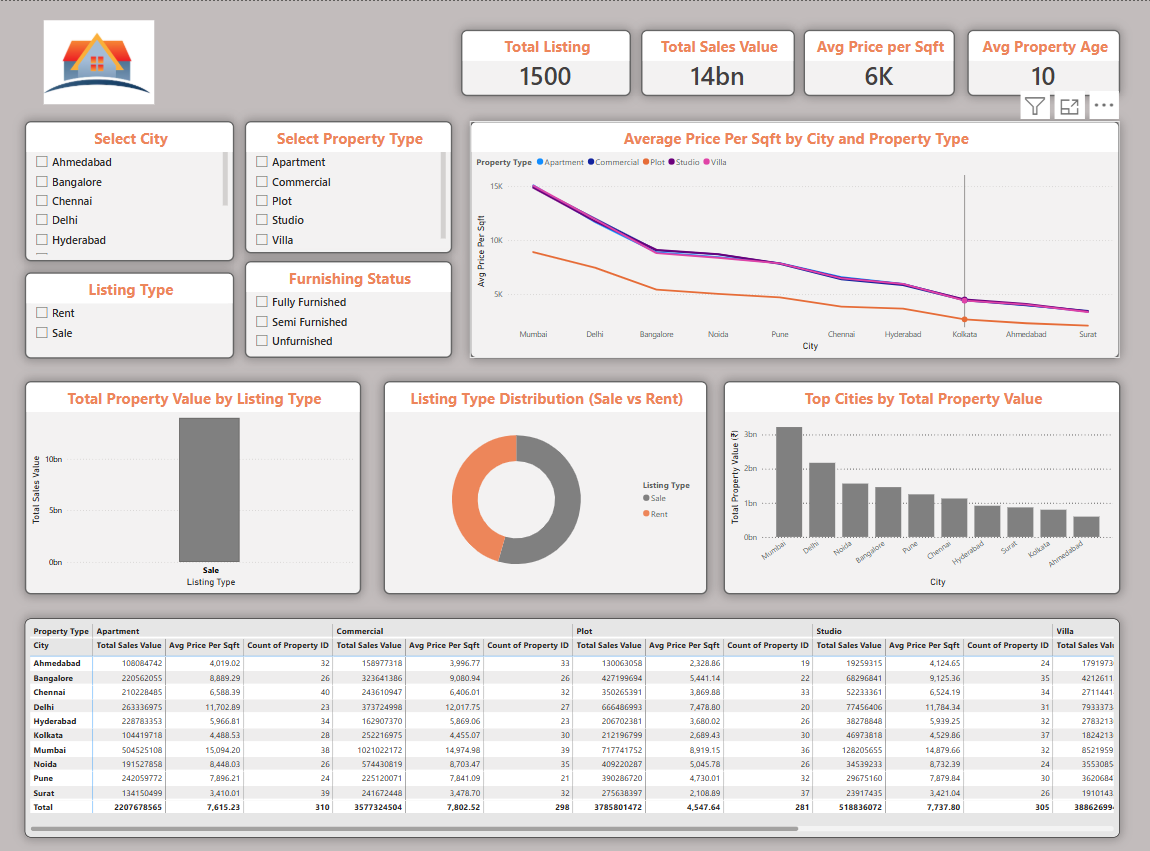

The page's visual inventory and layout, read from the dashboard file:
{"tool":"powerbi","page":{"name":"Page 1","canvas":[1850,1400],"ordinal":0},"visuals":[{"type":"card","title":"Total Listing","fields":{"Values":["fact_Property.Total Listings"]},"box":[744,48,272,106],"z":0},{"type":"card","title":"Total Sales Value","fields":{"Values":["fact_Property.Total Sales Value"]},"box":[1032,48,246,106],"z":1000},{"type":"card","title":"Avg Property Age","fields":{"Values":["fact_Property.Avg Property Age"]},"box":[1553.3,45,245,106.7],"z":2000},{"type":"card","title":"Avg Price per Sqft","fields":{"Values":["fact_Property.Avg Price Per Sqft"]},"box":[1292,46,242,106],"z":3000},{"type":"slicer","title":"Select City","fields":{"Values":["dim_Location.City"]},"box":[46.7,191.7,335,225],"z":4000},{"type":"slicer","title":"Listing Type","fields":{"Values":["dim_PropertyType.Listing Type"]},"box":[46.7,433.3,335,138.3],"z":5000},{"type":"slicer","title":"Furnishing Status","fields":{"Values":["dim_PropertyType.Furnishing Status"]},"box":[398.3,416.7,331.7,155],"z":6000},{"type":"clusteredColumnChart","title":"Total Property Value by Listing Type","fields":{"Y":["fact_Property.Total Sales Value"],"Category":["fact_Property.Listing Type"]},"box":[46.7,608.3,538.3,341.7],"z":7000},{"type":"clusteredColumnChart","title":"Top Cities by Total Property Value","fields":{"Category":["dim_Location.City"],"Y":["fact_Property.Total Sales Value"]},"box":[1163.3,608.3,635,341.7],"z":8000},{"type":"slicer","title":"Select Property Type","fields":{"Values":["dim_PropertyType.Property Type"]},"box":[398.3,191.7,331.7,211.7],"z":9000},{"type":"pivotTable","fields":{"Rows":["dim_Location.City"],"Values":["fact_Property.Total Sales Value","fact_Property.Avg Price Per Sqft","CountNonNull(fact_Property.Property ID)"],"Columns":["dim_PropertyType.Property Type"]},"box":[46.7,988.3,1751.7,350],"z":10000},{"type":"lineChart","title":"Average Price Per Sqft by City and Property Type","fields":{"Category":["dim_Location.City"],"Y":["fact_Property.Avg Price Per Sqft"],"Series":["dim_PropertyType.Property Type"]},"box":[758.3,191.7,1040,380],"z":11000},{"type":"donutChart","title":"Listing Type Distribution (Sale vs Rent)","fields":{"Category":["fact_Property.Listing Type"],"Y":["CountNonNull(fact_Property.Property ID)"]},"box":[620,608.3,518.3,341.7],"z":12000},{"type":"image","box":[30,26,270,144],"z":13000}]}

Visuals, with their boxes in screenshot pixels (x1, y1, x2, y2), scaled from the page's 1850x1400 canvas onto the 1150x851 screenshot:
"Total Listing" card: locate(462, 29, 632, 94)
"Total Sales Value" card: locate(642, 29, 794, 94)
"Avg Property Age" card: locate(966, 27, 1118, 92)
"Avg Price per Sqft" card: locate(803, 28, 954, 92)
"Select City" slicer: locate(29, 117, 237, 253)
"Listing Type" slicer: locate(29, 263, 237, 347)
"Furnishing Status" slicer: locate(248, 253, 454, 348)
"Total Property Value by Listing Type" clusteredColumnChart: locate(29, 370, 364, 577)
"Top Cities by Total Property Value" clusteredColumnChart: locate(723, 370, 1118, 577)
"Select Property Type" slicer: locate(248, 117, 454, 245)
pivotTable - dim_Location.City x fact_Property.Total Sales Value: locate(29, 601, 1118, 813)
"Average Price Per Sqft by City and Property Type" lineChart: locate(471, 117, 1118, 348)
"Listing Type Distribution (Sale vs Rent)" donutChart: locate(385, 370, 708, 577)
image: locate(19, 16, 186, 103)
